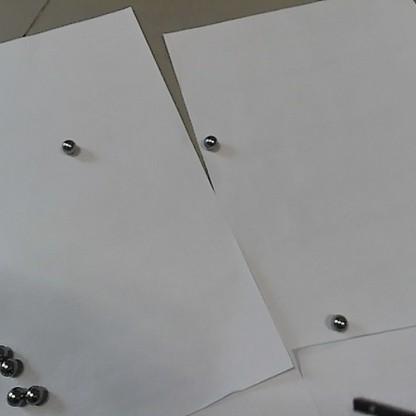ironball: (23, 383, 46, 406), (0, 358, 23, 378), (329, 313, 349, 333), (5, 385, 23, 407), (59, 137, 78, 155), (201, 132, 217, 151), (0, 341, 14, 358)
